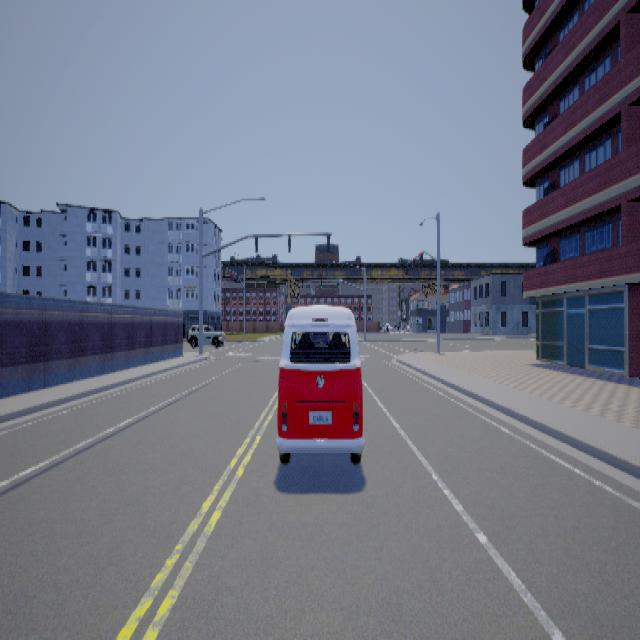vehicle: (275, 303, 364, 463), (185, 315, 226, 350)
